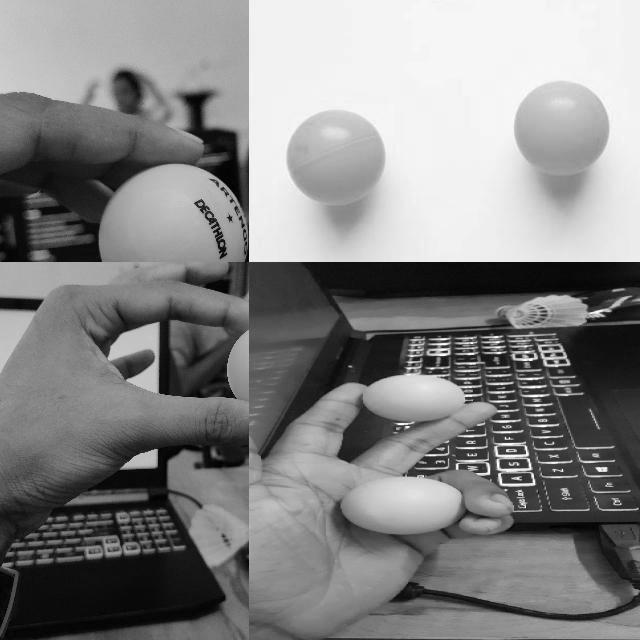ping-pong-ball: (99, 164, 248, 261), (514, 78, 610, 178), (287, 108, 381, 204), (342, 476, 460, 534), (362, 374, 465, 420), (227, 321, 248, 418)
